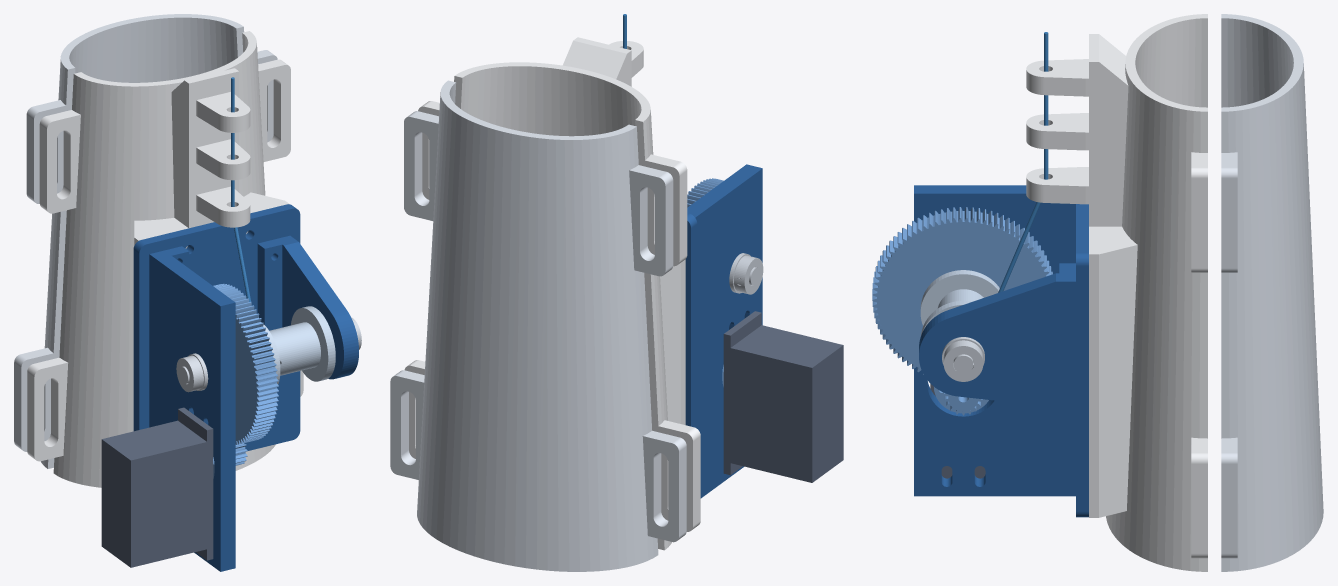
File: assembly-studio.glb
The picture shows the model from 3 angles, left to right: view 1: azimuth 30°, elevation 25°; view 2: azimuth 150°, elevation 25°; view 3: azimuth 270°, elevation 25°; orthographic projection. The views are drawn at different scales.
Visible parts, largest first — view 1: upper, lower, motorwall, servo_body, plate, supportwall, driven, spool, servo_flange, collar_left; view 2: lower, upper, servo_body, motorwall, plate, servo_flange, collar_left; view 3: upper, lower, motorwall, supportwall, driven, plate, spool, collar_right, pinion.
Part boxes in pixels (<box>): upper: <box>27,31,303,487</box>; lower: <box>14,14,277,468</box>; motorwall: <box>149,246,235,571</box>; servo_body: <box>101,420,212,567</box>; plate: <box>133,204,300,450</box>; supportwall: <box>257,235,358,379</box>; driven: <box>213,283,278,444</box>; spool: <box>261,306,335,384</box>; servo_flange: <box>178,407,213,560</box>; collar_left: <box>176,355,203,392</box>; lower: <box>390,80,686,571</box>; upper: <box>404,37,700,550</box>; servo_body: <box>723,325,843,482</box>; motorwall: <box>687,164,762,498</box>; plate: <box>685,213,697,428</box>; servo_flange: <box>723,311,761,475</box>; collar_left: <box>734,255,763,294</box>; upper: <box>1026,14,1207,571</box>; lower: <box>1221,14,1323,571</box>; motorwall: <box>914,185,1075,496</box>; supportwall: <box>919,263,1075,407</box>; driven: <box>872,207,1052,374</box>; plate: <box>1076,204,1088,517</box>; spool: <box>920,270,999,336</box>; collar_right: <box>943,340,983,381</box>; pinion: <box>934,387,988,415</box>.
Bounding box in the file's own units: 114 × 165 × 137.
